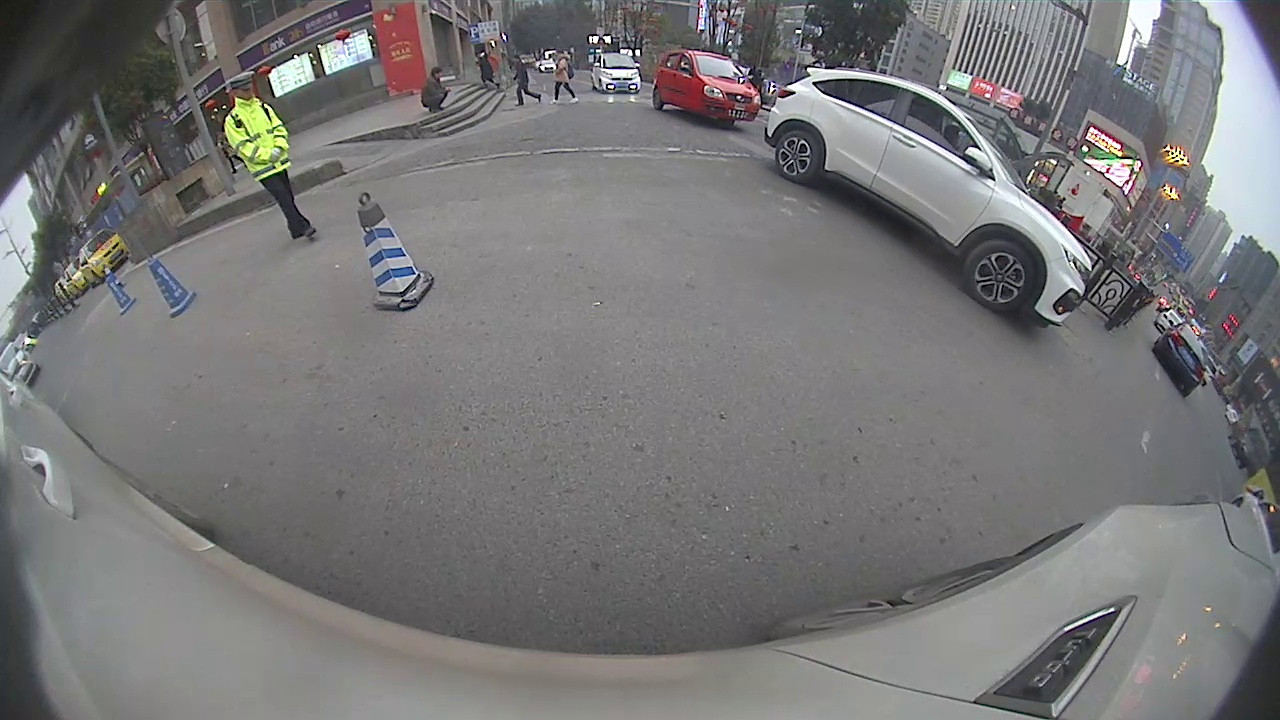car: (768, 66, 1093, 329), (653, 48, 761, 130), (1151, 327, 1208, 396), (590, 55, 643, 93)
front: (965, 236, 1042, 312)
person: (227, 72, 311, 249), (421, 66, 448, 113), (509, 57, 533, 106), (553, 57, 574, 110), (476, 48, 494, 91)
rear: (775, 129, 823, 181), (650, 84, 664, 112)
